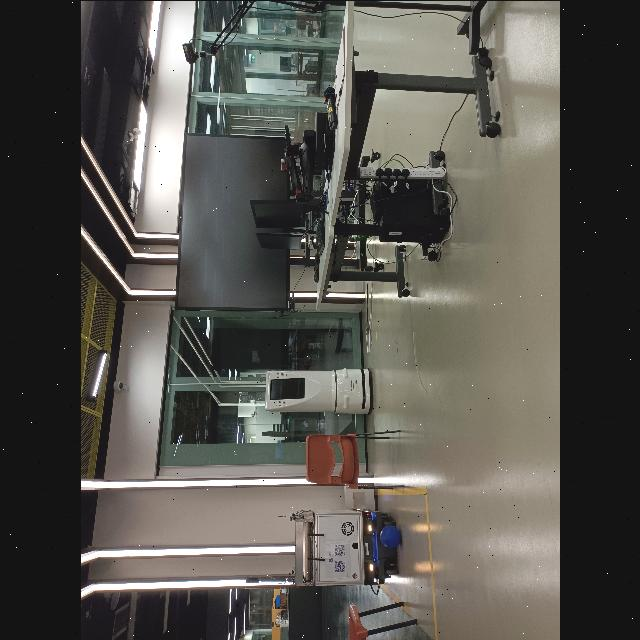B: (380, 524, 402, 548)
